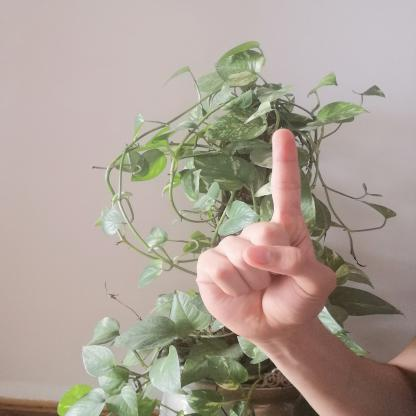BAA: (184, 119, 346, 353)
